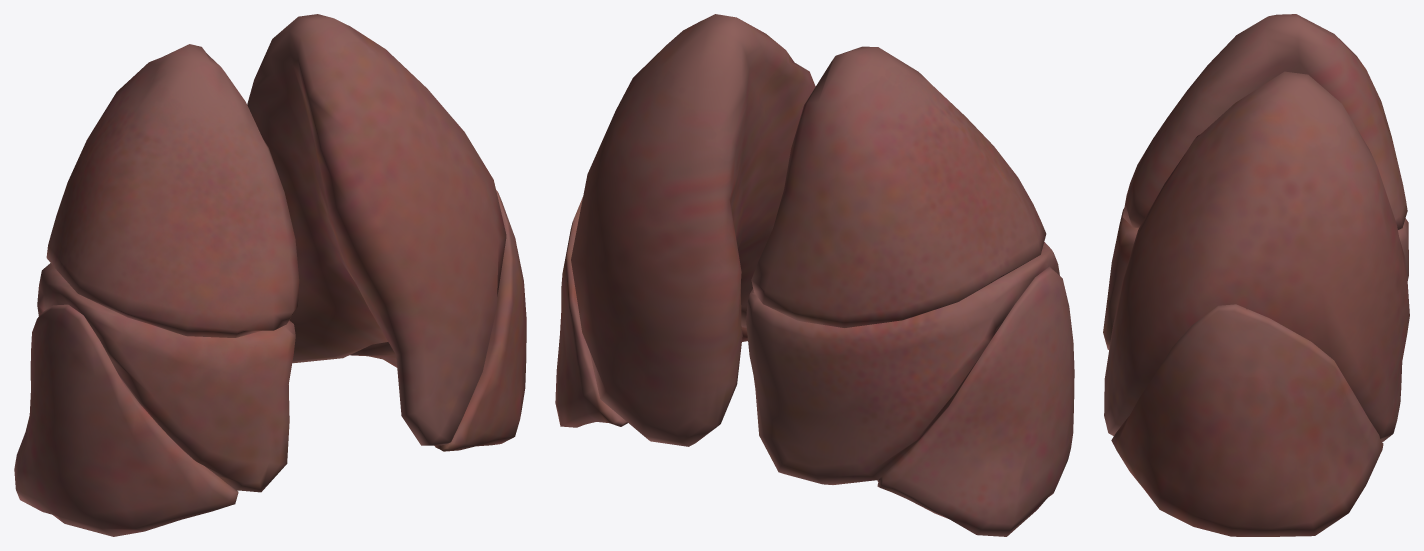
File: lungs.FBX
The picture shows the model from 3 angles, left to right: view 1: azimuth 30°, elevation 25°; view 2: azimuth 150°, elevation 25°; view 3: azimuth 270°, elevation 25°; orthographic projection. The views are drawn at different scales.
Parts seen in each view (by area): view 1: Lungsright1, Lungsleft1, Lungsleft3, Lungsleft2, Lungsright2; view 2: Lungsright1, Lungsleft1, Lungsleft2, Lungsleft3, Lungsright2; view 3: Lungsright1, Lungsright2, Lungsleft1, Lungsleft2.
Part boxes in pixels (left/top/right/bottom): Lungsright1: left=247, top=14, right=506, bottom=445; Lungsleft1: left=46, top=44, right=299, bottom=337; Lungsleft3: left=14, top=304, right=238, bottom=536; Lungsleft2: left=37, top=263, right=295, bottom=492; Lungsright2: left=350, top=190, right=526, bottom=451; Lungsright1: left=571, top=14, right=815, bottom=446; Lungsleft1: left=751, top=46, right=1046, bottom=327; Lungsleft2: left=746, top=242, right=1059, bottom=484; Lungsleft3: left=877, top=266, right=1074, bottom=536; Lungsright2: left=555, top=197, right=747, bottom=427; Lungsright1: left=1104, top=71, right=1409, bottom=441; Lungsright2: left=1111, top=304, right=1383, bottom=536; Lungsleft1: left=1123, top=14, right=1407, bottom=229; Lungsleft2: left=1103, top=208, right=1408, bottom=349.
Bounding box in the file's own units: 23.71 × 20.61 × 14.42.
